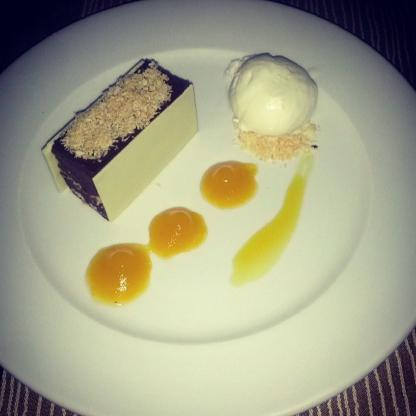Egg: (81, 243, 154, 307), (147, 205, 211, 258), (196, 159, 258, 208)
